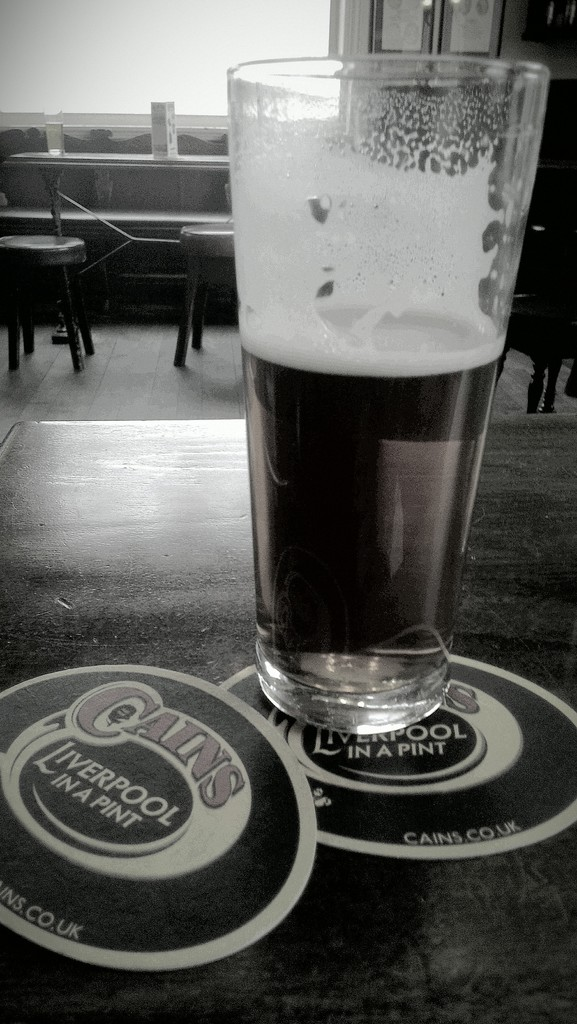Beer: (242, 128, 506, 660)
